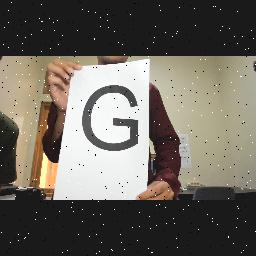g: (75, 80, 143, 160)
